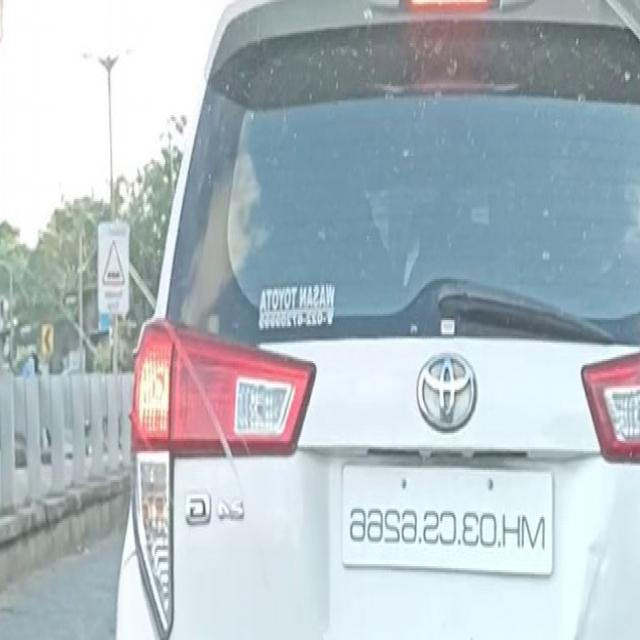license_plate: (336, 453, 558, 591)
